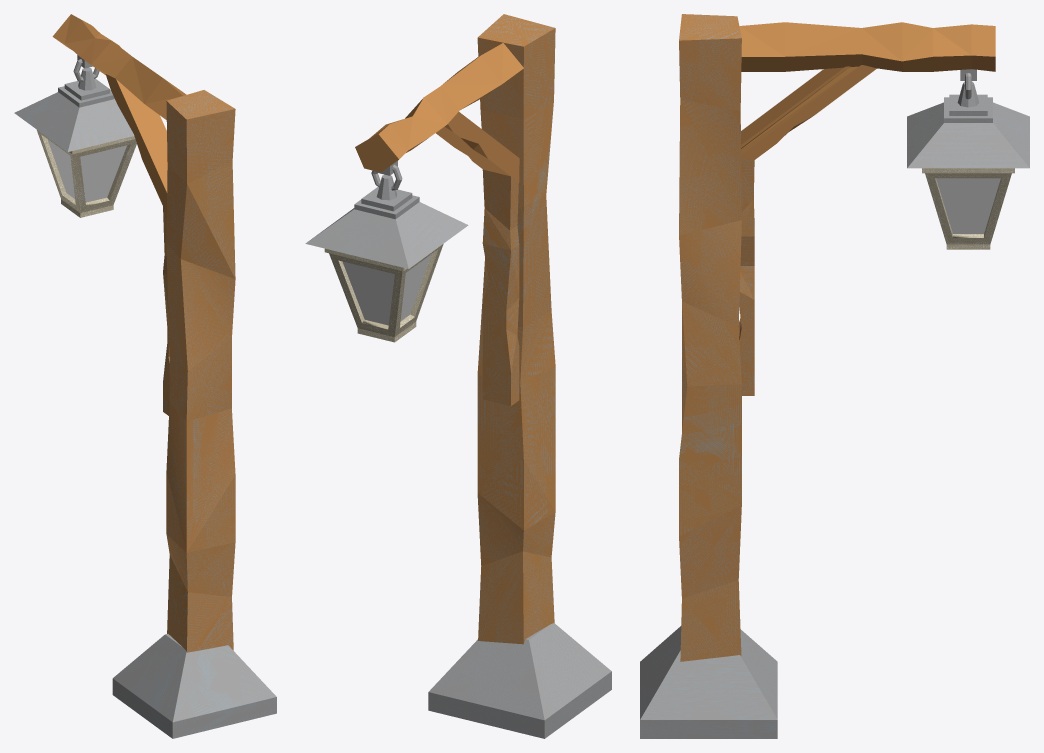
File: Lamp.fbx
The picture shows the model from 3 angles, left to right: view 1: azimuth 30°, elevation 25°; view 2: azimuth 150°, elevation 25°; view 3: azimuth 270°, elevation 25°; orthographic projection. The views are drawn at different scales.
Visible parts, largest first — view 1: Stolb6_1, Group7, Group5, Group6, Group2, Group3, Group_20_1; view 2: Stolb6_1, Group7, Group_20_1, Group5, Group2, Group6, Group3; view 3: Stolb6_1, Group7, Group2, Group5, Group6, Group3, Group_20_1.
Boxes of the visible parts, x1,y1,x2,y2 form: Stolb6_1: (166, 90, 235, 652); Group7: (112, 634, 276, 738); Group5: (14, 67, 134, 151); Group6: (37, 130, 136, 217); Group2: (52, 14, 186, 119); Group3: (105, 74, 167, 214); Group_20_1: (163, 206, 169, 415); Stolb6_1: (477, 14, 555, 644); Group7: (428, 623, 611, 738); Group_20_1: (482, 169, 519, 405); Group5: (305, 174, 468, 268); Group2: (355, 43, 523, 172); Group6: (324, 244, 443, 342); Group3: (436, 112, 519, 182); Stolb6_1: (679, 14, 741, 661); Group7: (640, 626, 777, 738); Group2: (739, 22, 995, 71); Group5: (907, 81, 1029, 168); Group6: (922, 168, 1014, 249); Group3: (741, 65, 876, 159); Group_20_1: (738, 159, 754, 395).
Bounding box in the file's own units: 329 × 1810 × 929.
